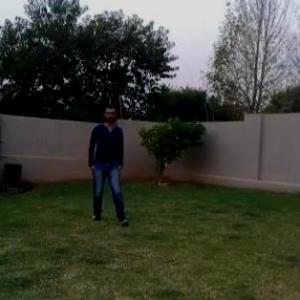follow: (86, 96, 131, 226)
